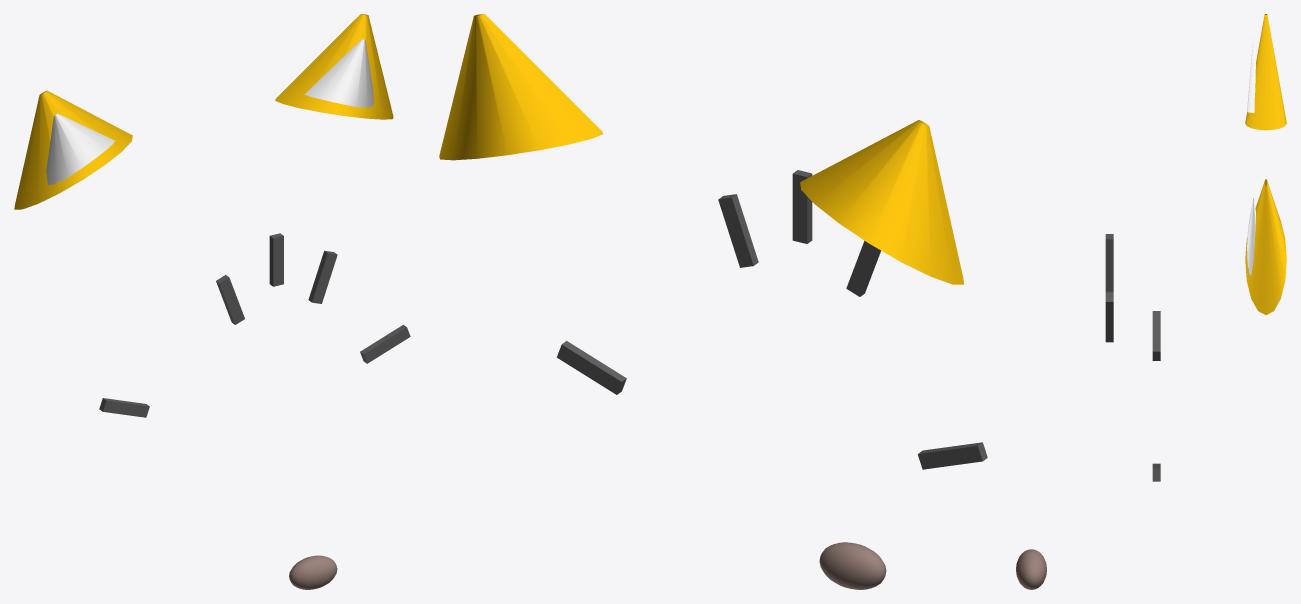
Rendered from tiger.glb.
The picture shows the model from 3 angles, left to right: view 1: azimuth 30°, elevation 25°; view 2: azimuth 150°, elevation 25°; view 3: azimuth 270°, elevation 25°; orthographic projection. The views are drawn at different scales.
Visible parts, largest first — view 1: ears, ears_inner, stripes, nose; view 2: ears, stripes, nose; view 3: ears, stripes, nose, ears_inner.
Boxes of the visible parts, x1,y1,x2,y2 form: ears: (14,14,393,209); ears_inner: (46,39,373,184); stripes: (99,233,410,417); nose: (289,555,337,589); ears: (439,14,963,284); stripes: (556,170,987,469); nose: (819,542,886,589); ears: (1245,14,1286,314); stripes: (1105,234,1160,481); nose: (1016,549,1046,589); ears_inner: (1247,38,1255,275).
Size of the model in its own units: 1.8 by 2.07 by 1.04.
